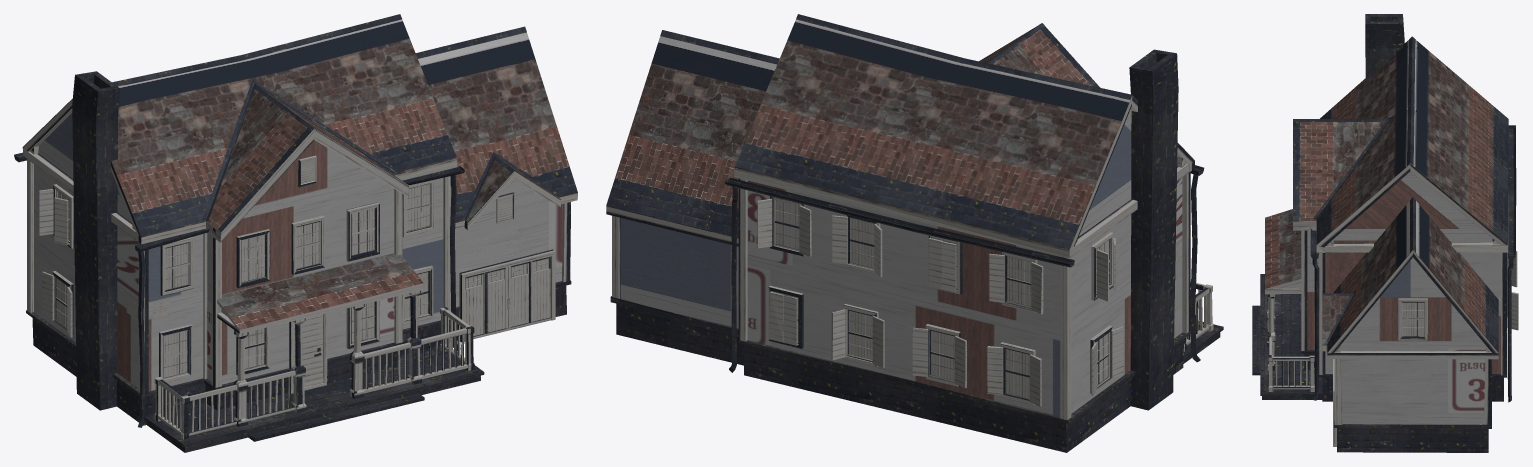
The picture shows the model from 3 angles, left to right: view 1: azimuth 30°, elevation 25°; view 2: azimuth 150°, elevation 25°; view 3: azimuth 270°, elevation 25°; orthographic projection. The views are drawn at different scales.
Bounding box in the file's own units: 1.75 × 1.17 × 1.09.
Materials: 1 (1 with a texture image).
